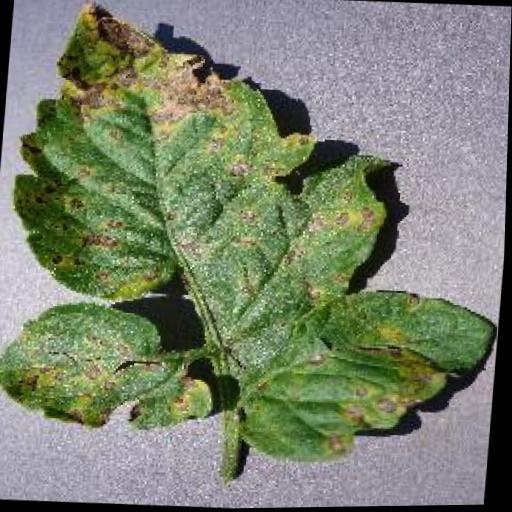Septoria: (0, 0, 512, 472)
